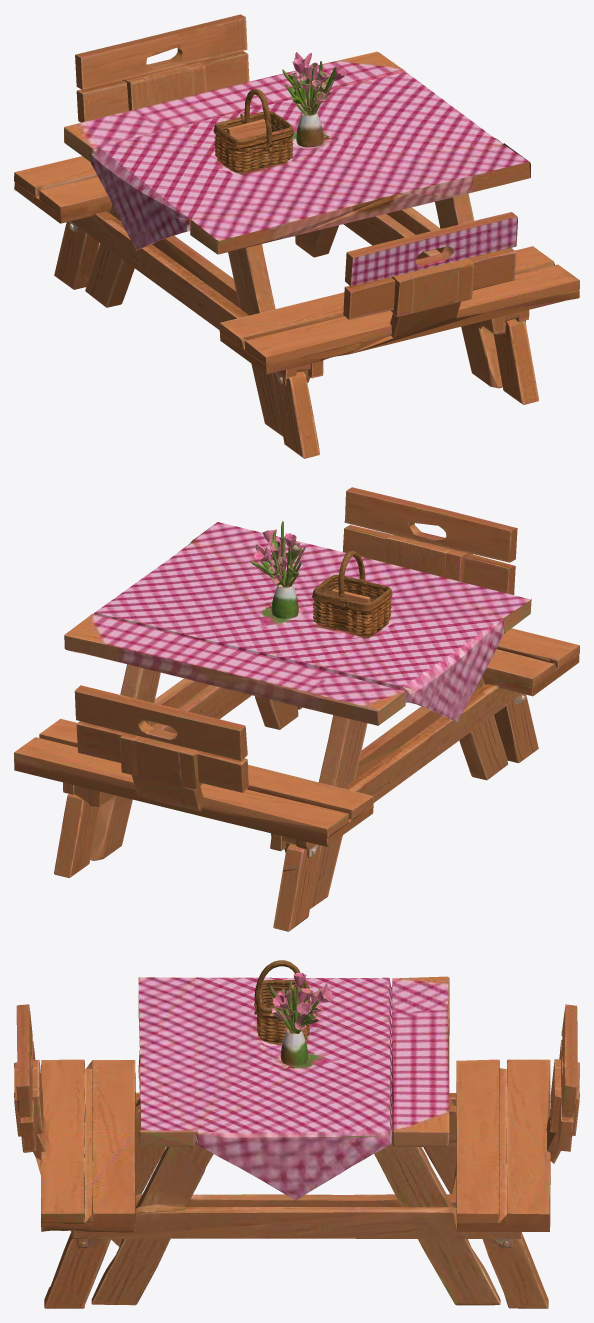
The model's file is picnic_table.glb.
The picture shows the model from 3 angles, top to bottom: view 1: azimuth 30°, elevation 25°; view 2: azimuth 150°, elevation 25°; view 3: azimuth 270°, elevation 25°; orthographic projection.
Size of the model in its own units: 1.27 by 1.04 by 1.9.
1 material, 1 textured.
